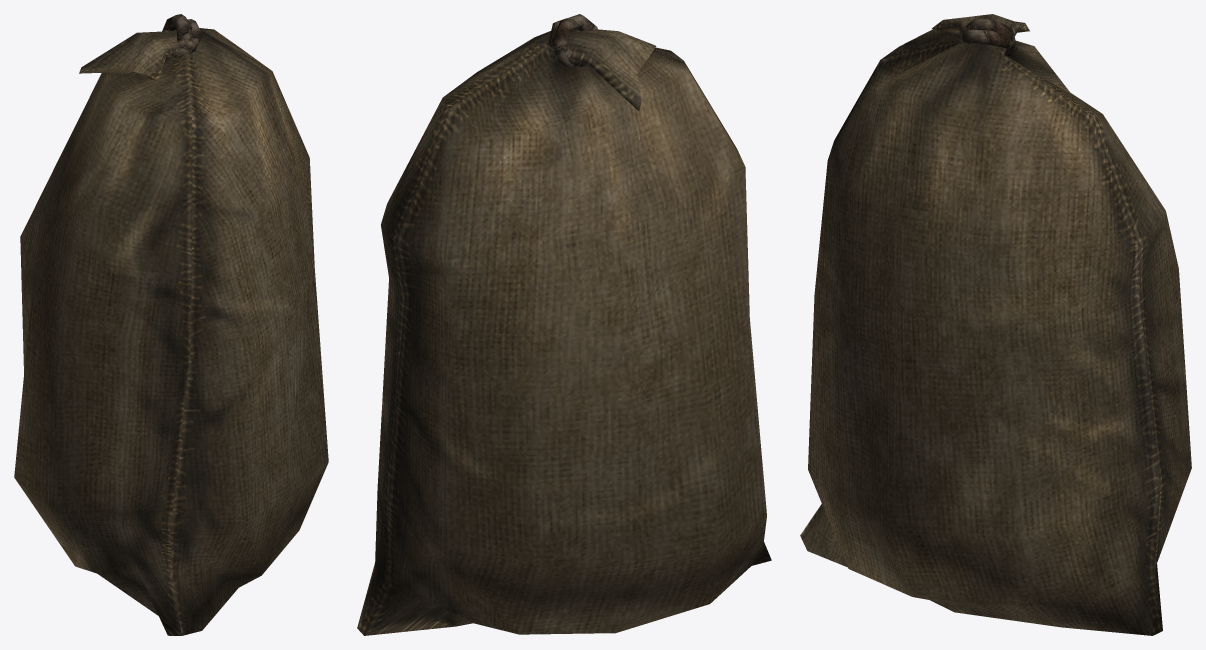
File: sack_A_01.FBX
The picture shows the model from 3 angles, left to right: view 1: azimuth 30°, elevation 25°; view 2: azimuth 150°, elevation 25°; view 3: azimuth 270°, elevation 25°; orthographic projection. The views are drawn at different scales.
Parts seen in each view (by area): view 1: sack_A_01; view 2: sack_A_01; view 3: sack_A_01.
Part boxes in pixels (<box>): sack_A_01: <box>14,14,328,635</box>; sack_A_01: <box>357,14,771,635</box>; sack_A_01: <box>800,14,1191,635</box>.
Size of the model in its own units: 33.42 by 59.48 by 36.91.
